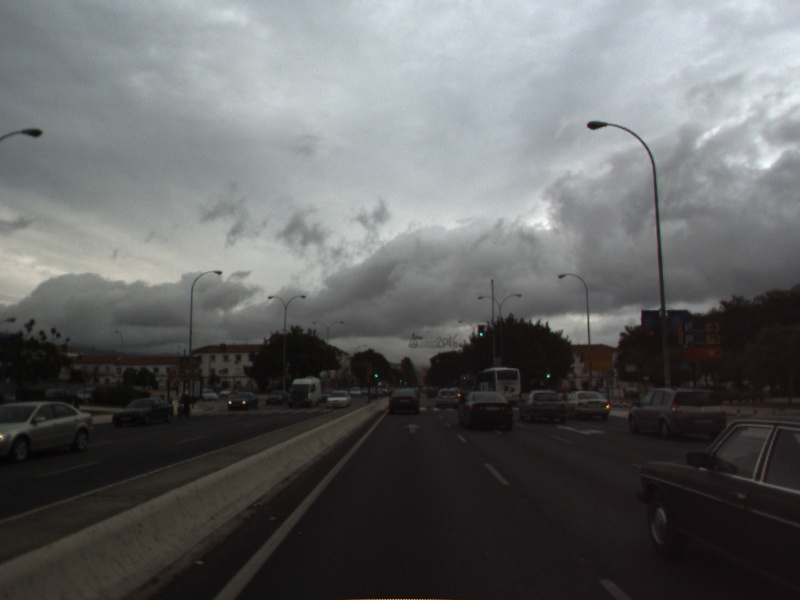STRAIGHT: (401, 421, 423, 436)
STRAIGHT_RIGHT: (555, 423, 607, 438)
